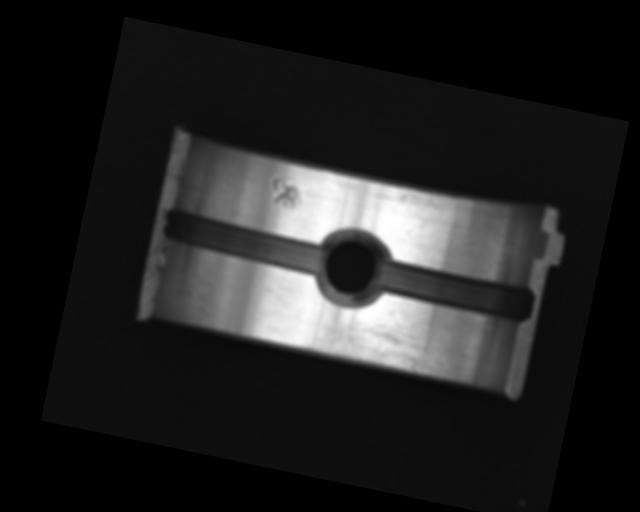bruise: (267, 176, 306, 211)
gap: (157, 203, 331, 278), (373, 256, 536, 324)
hole: (308, 221, 394, 313)
scratch: (296, 305, 454, 381)
